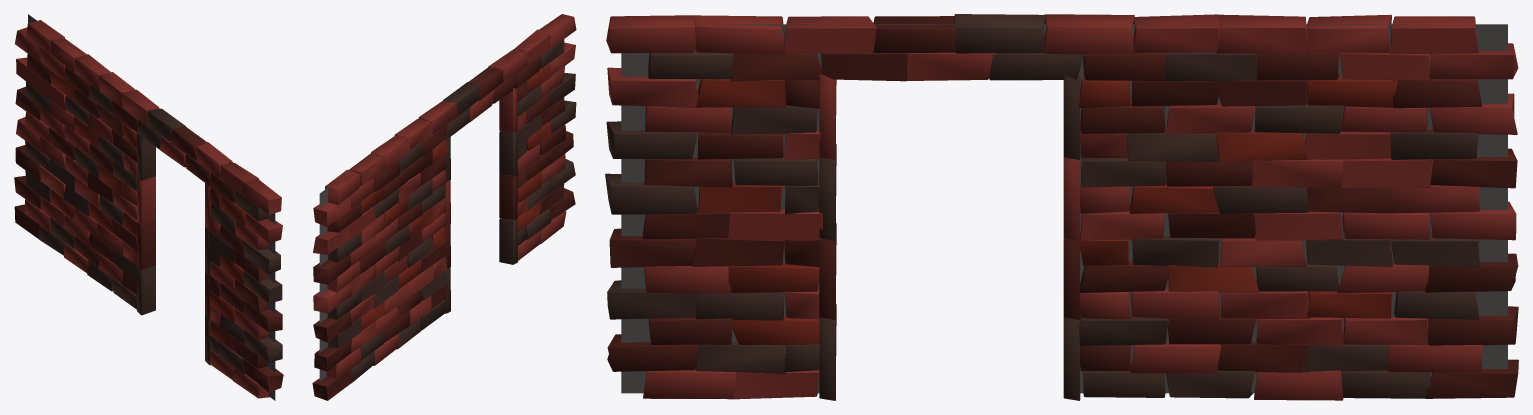
File: DaBrickWithAHole.dae
3 renders of one model, left to right at view 1: azimuth 30°, elevation 25°; view 2: azimuth 150°, elevation 25°; view 3: azimuth 270°, elevation 25°, orthographic. The views are drawn at different scales.
Parts seen in each view (by area): view 1: Cube.001, Cube.005, Cube.003, Cube.004, Cube.002, Plane.001, Cube.007, Cube.009; view 2: Cube.001, Cube.009, Cube.008, Cube.006, Plane.001, Cube.007, Cube.003; view 3: Cube.001, Plane.001, Cube.009, Cube.007, Cube.002, Cube.003, Cube.005, Cube.008, Cube.006, Cube.004.
Boxes of the visible parts, x1,y1,x2,y2 form: Cube.001: (14,20,283,398); Cube.005: (137,265,155,315); Cube.003: (137,176,155,226); Cube.004: (137,221,155,270); Cube.002: (137,131,155,180); Plane.001: (28,14,275,400); Cube.007: (205,180,210,230); Cube.009: (205,316,211,365); Cube.001: (312,14,576,400); Cube.009: (499,218,517,264); Cube.008: (499,175,517,220); Cube.006: (499,130,517,177); Plane.001: (319,16,561,381); Cube.007: (499,88,517,132); Cube.003: (444,180,450,225); Cube.001: (605,14,1518,400); Plane.001: (621,24,1507,393); Cube.009: (819,304,836,400); Cube.007: (819,74,836,159); Cube.002: (1063,75,1080,159); Cube.003: (1063,157,1080,240); Cube.005: (1063,317,1080,400); Cube.008: (819,223,836,319); Cube.006: (819,144,836,240); Cube.004: (1063,238,1080,319).
Size of the model in its own units: 2.27 by 62.45 by 28.3.
